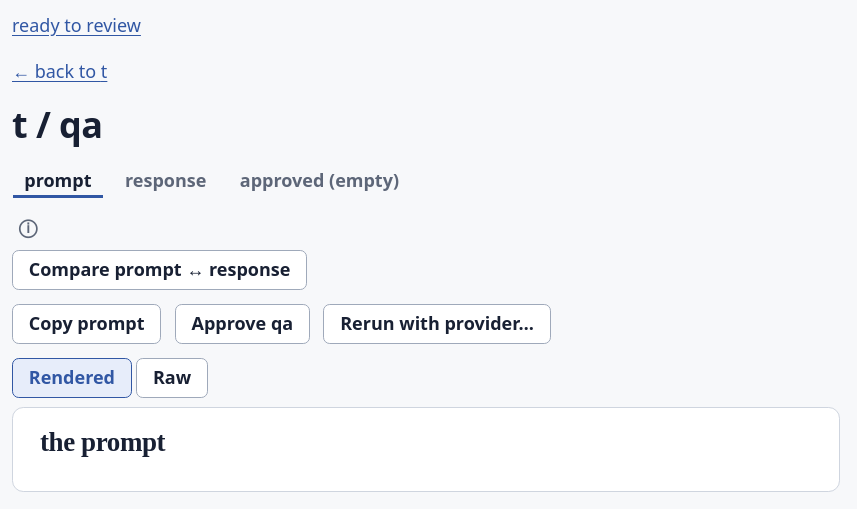
Test: StageViewerPage › switches to the requested tab on in-page navigation to the same stage
Check: the heading "the prompt" is shown, box [40,427,165,457]
What coordinates should you click on to do the following:
click the link "ready to review"
I would click on:
 (76, 25)
Its box is [12,13,141,37].
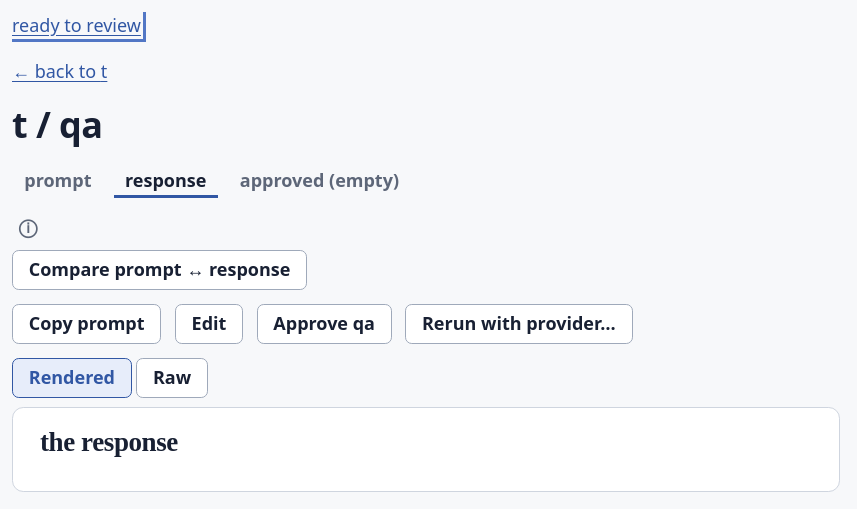
Check: the heading "the response" is shown, box [40,427,178,457]
